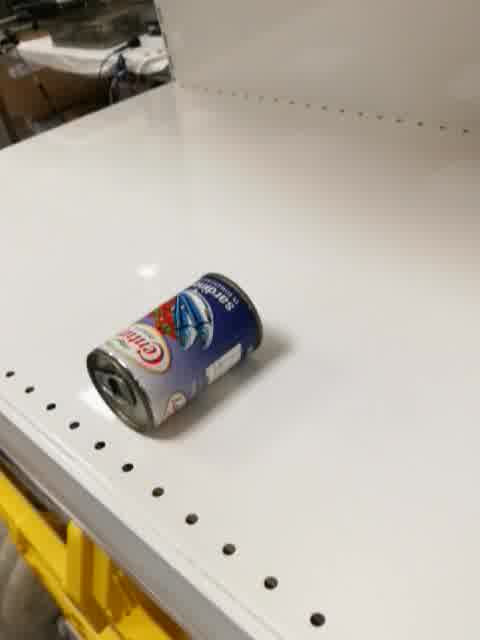sardine: (86, 270, 264, 435)
